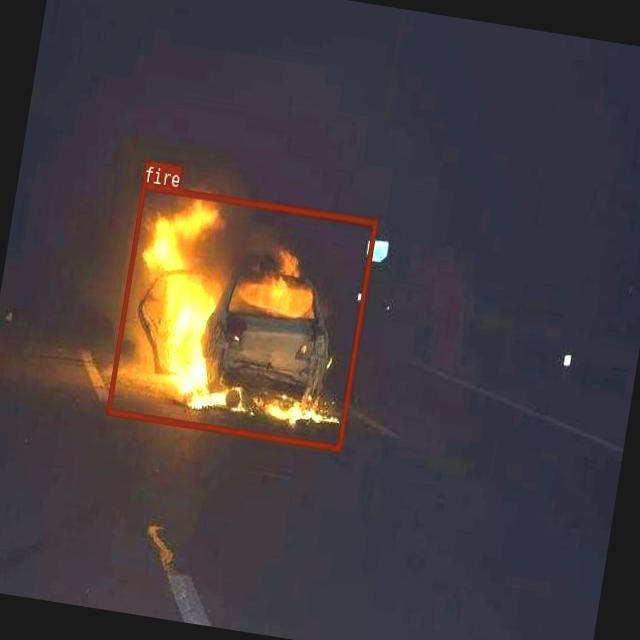fire: (105, 182, 377, 450)
